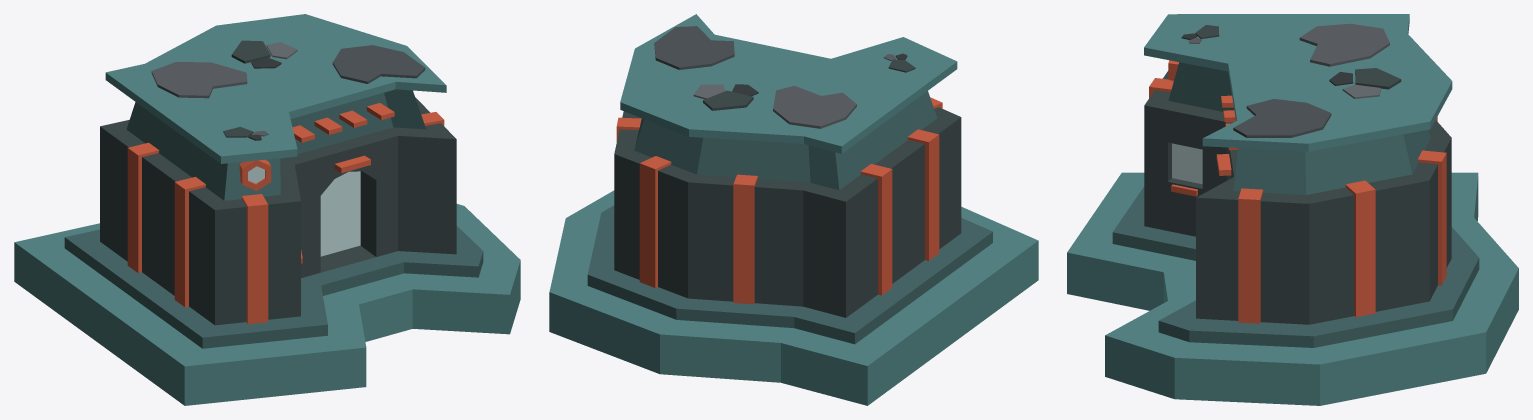
The model's file is TP_Sci-fi05.fbx.
3 renders of one model, left to right at view 1: azimuth 30°, elevation 25°; view 2: azimuth 150°, elevation 25°; view 3: azimuth 270°, elevation 25°, orthographic. The views are drawn at different scales.
Parts seen in each view (by area): view 1: TP_Sci_fi05; view 2: TP_Sci_fi05; view 3: TP_Sci_fi05.
Part boxes in pixels (bbox=[...]): TP_Sci_fi05: bbox=[14, 14, 520, 405]; TP_Sci_fi05: bbox=[549, 14, 1038, 405]; TP_Sci_fi05: bbox=[1067, 14, 1518, 405].
Bounding box in the file's own units: 339 × 191 × 337.
1 material, 1 textured.
